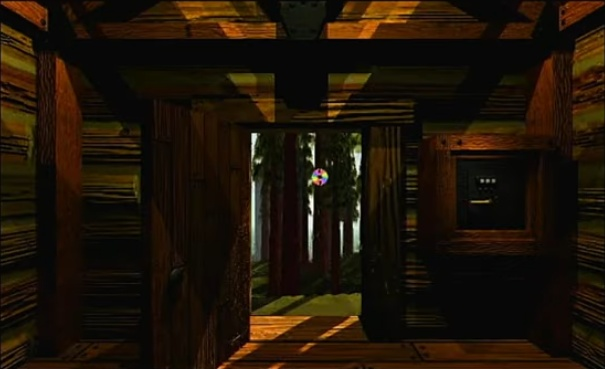Waiting: (307, 166, 330, 187)
